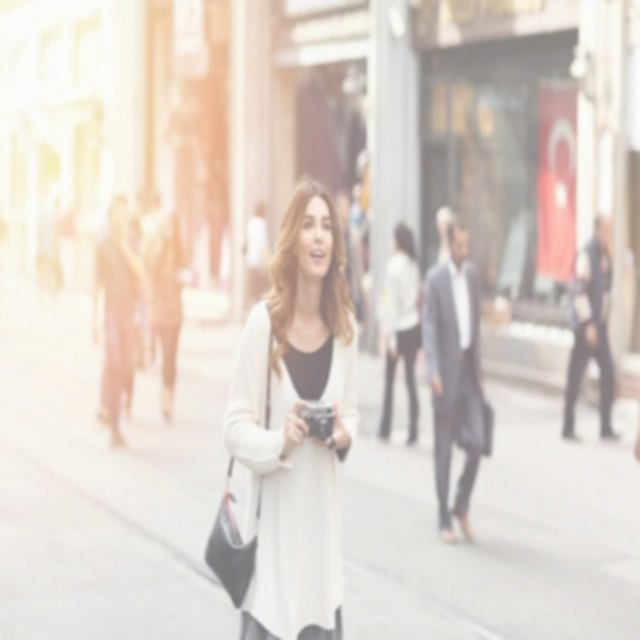pessoa: (220, 176, 362, 638), (420, 212, 488, 546), (87, 188, 153, 456), (557, 203, 625, 442), (372, 218, 424, 452), (145, 208, 191, 426), (324, 180, 369, 402), (241, 198, 274, 310), (436, 203, 456, 263), (95, 358, 110, 422), (126, 212, 143, 246)
